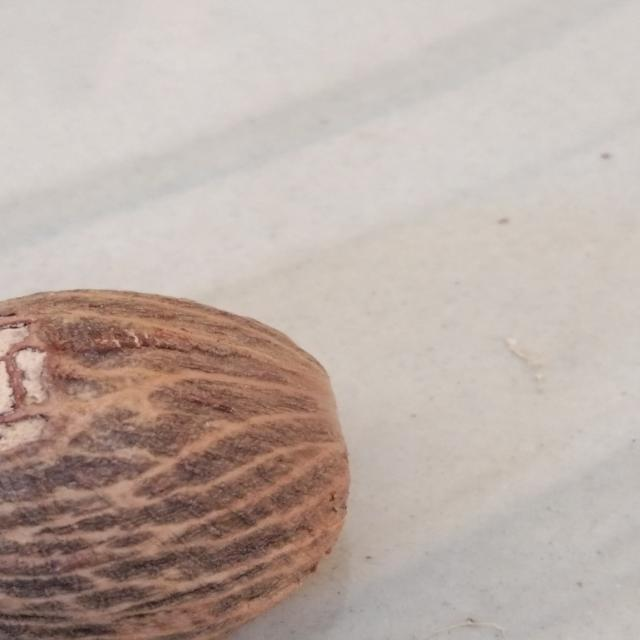karigot: (0, 268, 367, 640)
